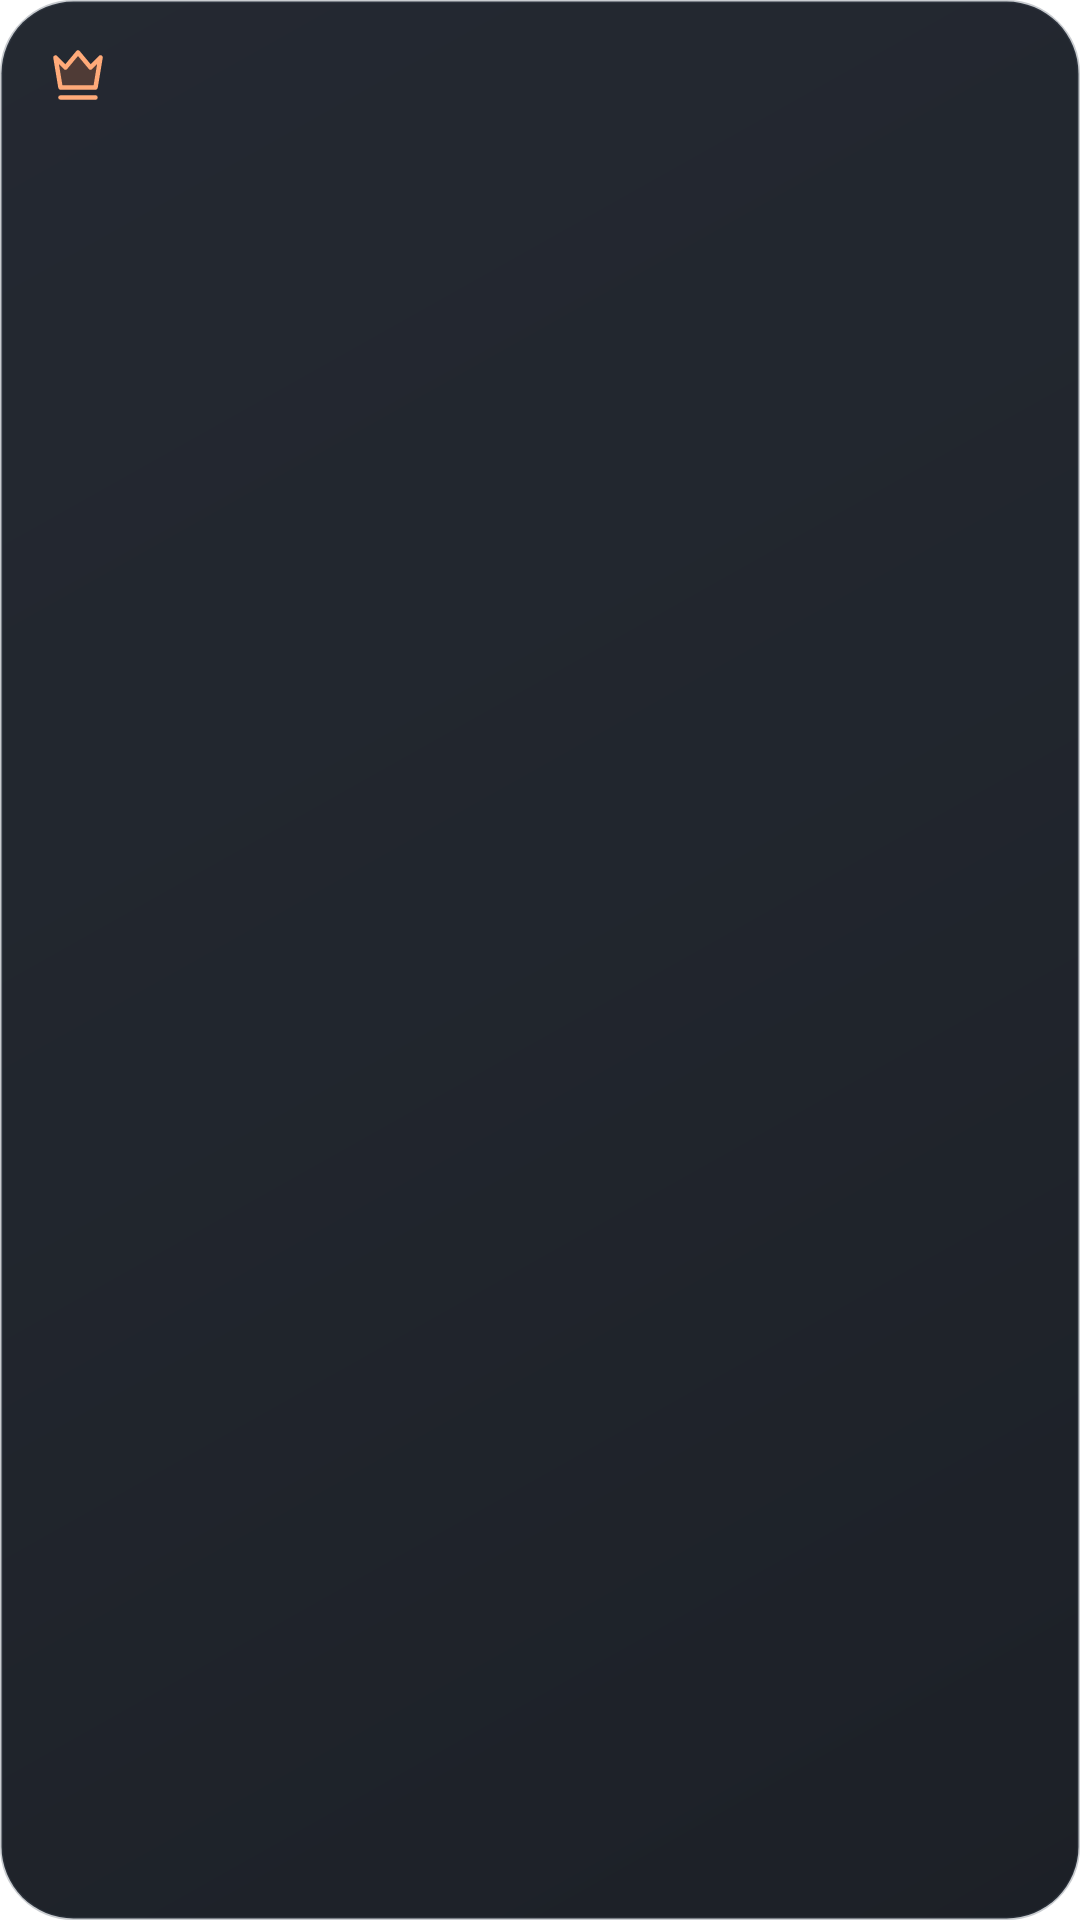

Where to tap for icons on this 1080 × 1920 app screen, as (x=x, y=y):
대표 캐릭터: (x=78, y=75)
